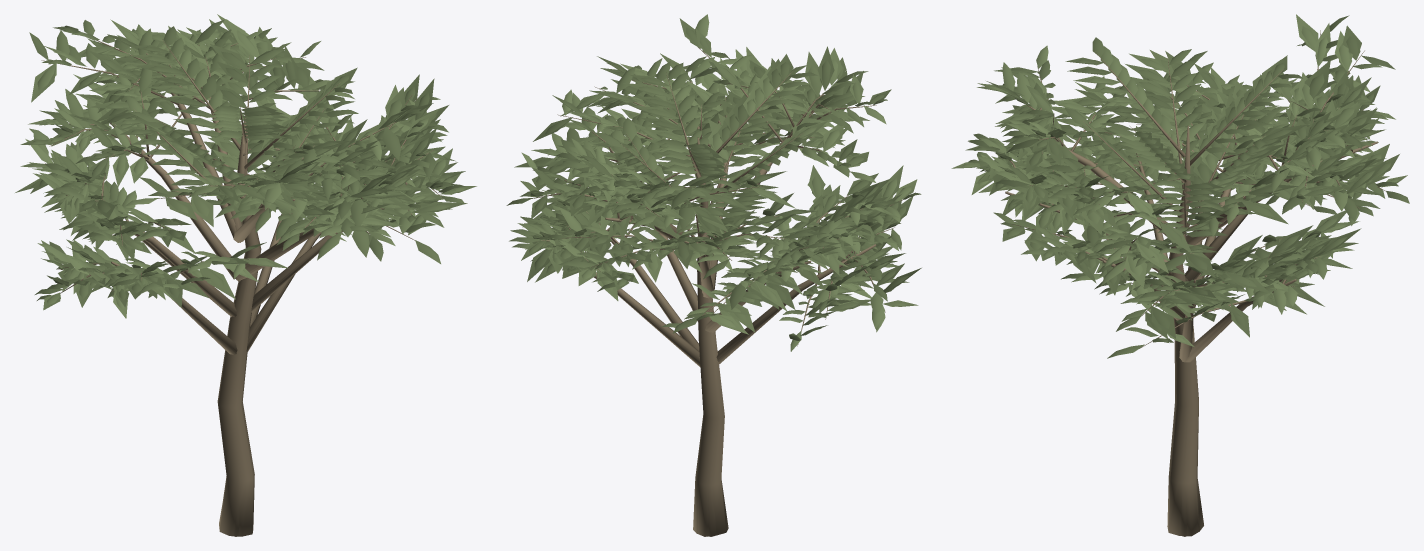
The model's file is coastal-tree.glb.
The picture shows the model from 3 angles, left to right: view 1: azimuth 30°, elevation 25°; view 2: azimuth 150°, elevation 25°; view 3: azimuth 270°, elevation 25°; orthographic projection. The views are drawn at different scales.
Visible parts, largest first — view 1: foliage_0, foliage_1, branches_0, branches_1; view 2: foliage_0, foliage_1, branches_0, branches_1; view 3: foliage_0, foliage_1, branches_0, branches_1.
Part boxes in pixels (box(x1,y1,x2,y2)): foliage_0: box(25, 19, 465, 309); foliage_1: box(15, 14, 476, 318); branches_0: box(41, 39, 443, 536); branches_1: box(57, 45, 441, 536); foliage_0: box(506, 14, 921, 351); foliage_1: box(514, 18, 921, 334); branches_0: box(532, 47, 903, 536); branches_1: box(532, 48, 876, 536); foliage_0: box(961, 15, 1409, 358); foliage_1: box(951, 14, 1407, 346); branches_0: box(1005, 30, 1386, 536); branches_1: box(1005, 33, 1380, 536).
Size of the model in its own units: 3.99 by 4.46 by 4.03.
